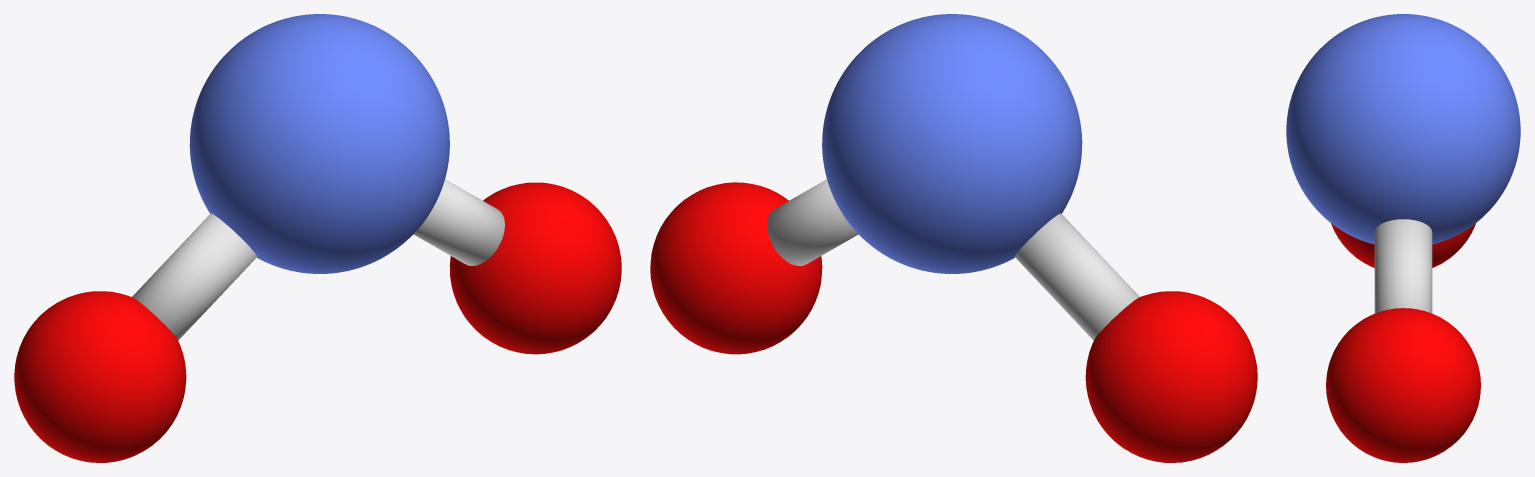
File: asset.gltf
3 views of the same model, side by side, from view 1: azimuth 30°, elevation 25°; view 2: azimuth 150°, elevation 25°; view 3: azimuth 270°, elevation 25° (orthographic). The views are drawn at different scales.
Bounding box in the file's own units: 56.03 × 34.38 × 21.6.
